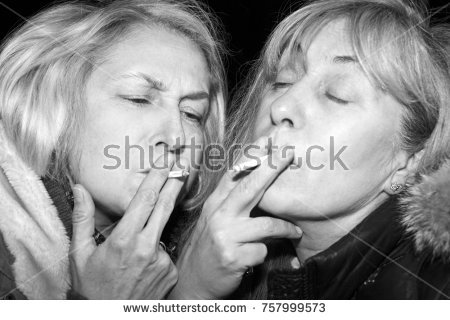cigarette: (227, 154, 275, 177), (163, 169, 191, 179)
